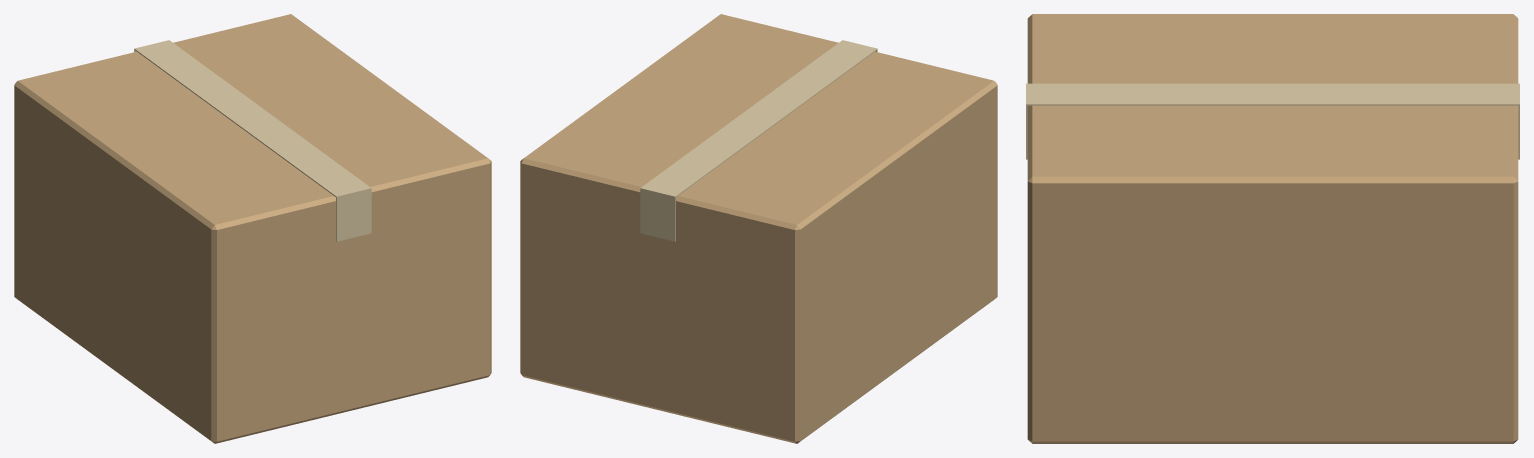
The picture shows the model from 3 angles, left to right: view 1: azimuth 30°, elevation 25°; view 2: azimuth 150°, elevation 25°; view 3: azimuth 270°, elevation 25°; orthographic projection. The views are drawn at different scales.
Visible parts, largest first — view 1: box_120; view 2: box_120; view 3: box_120.
Boxes of the visible parts, left/top/right/bottom form: box_120: left=14, top=14, right=491, bottom=443; box_120: left=520, top=14, right=997, bottom=443; box_120: left=1026, top=14, right=1519, bottom=443.
Size of the model in its own units: 0.4 by 0.3 by 0.5.
